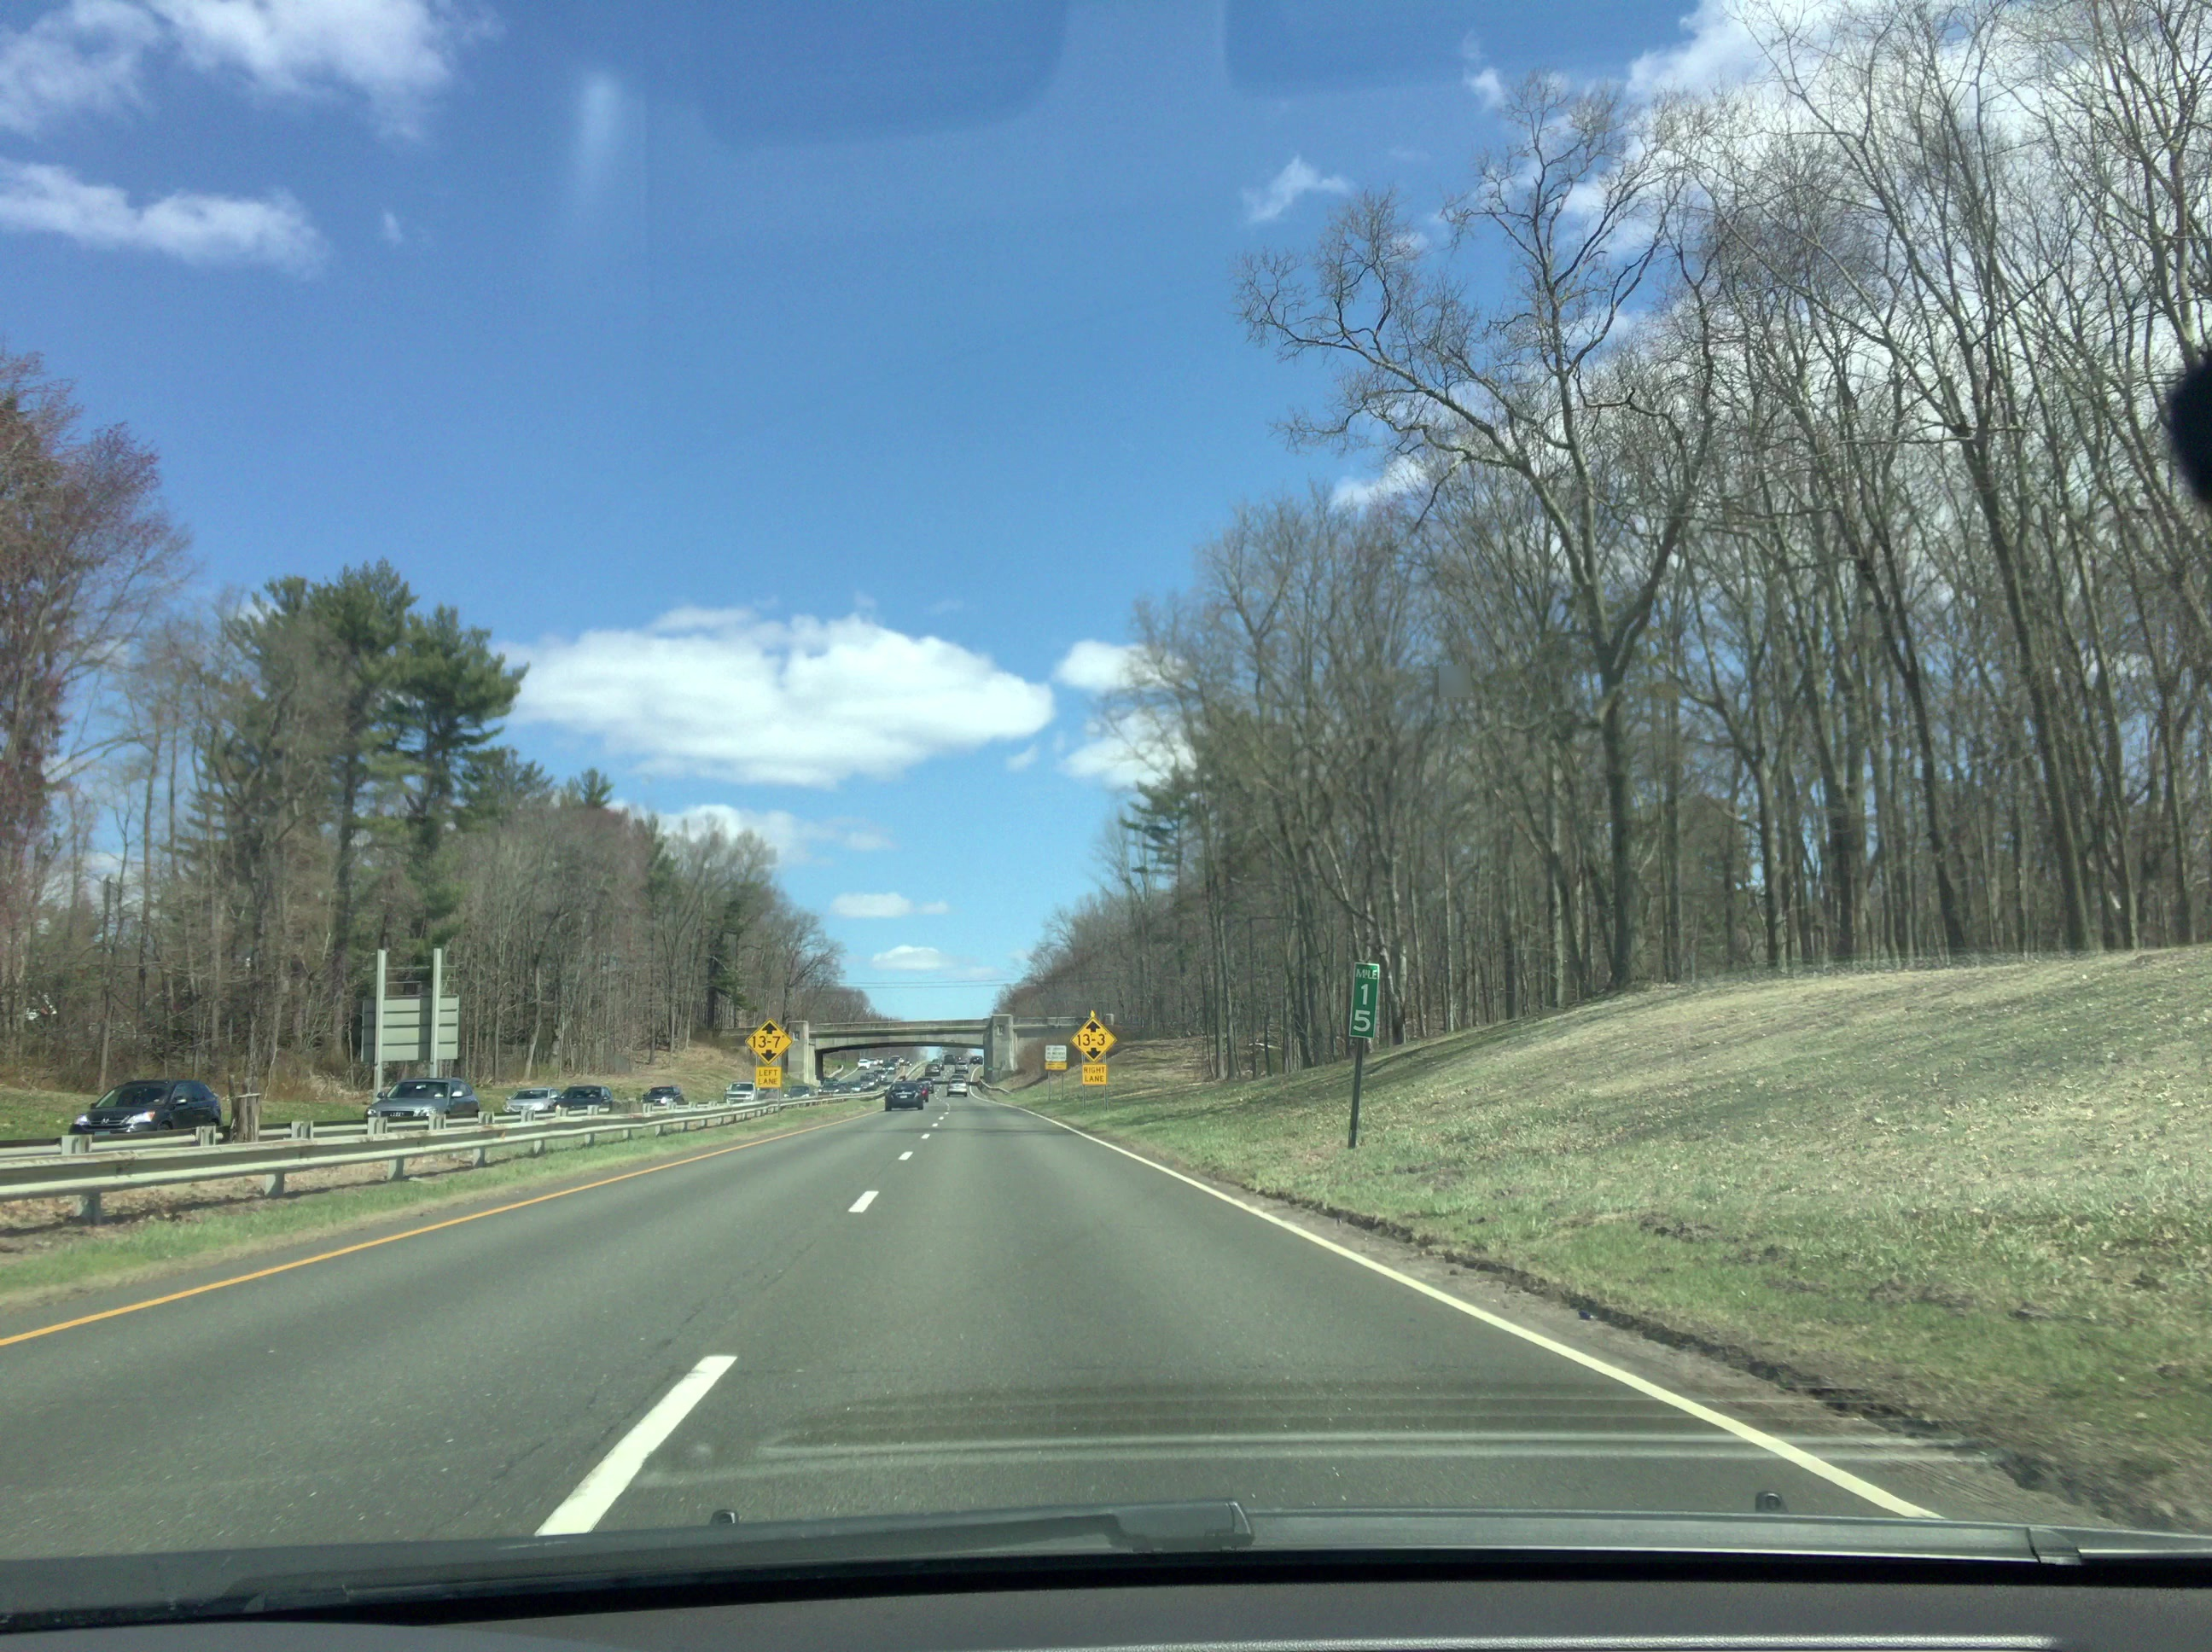low-clearance-sign: (744, 1019, 793, 1067), (1069, 1017, 1117, 1064)
